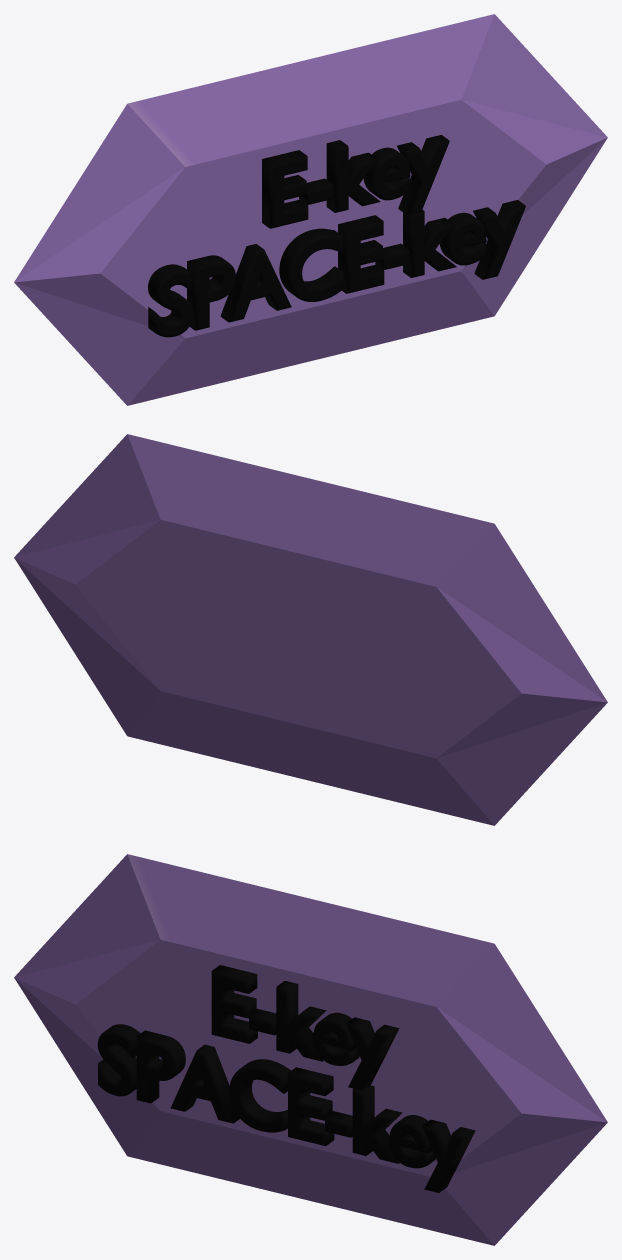
Rendered from Explanation.obj.
3 renders of one model, top to bottom at view 1: azimuth 30°, elevation 25°; view 2: azimuth 150°, elevation 25°; view 3: azimuth 330°, elevation 25°, orthographic.
Parts seen in each view (by area): view 1: 立方体, テキスト; view 2: 立方体; view 3: 立方体, テキスト.
Part boxes in pixels (x1,y1,x2,y2): 立方体: [14, 14, 607, 405]; テキスト: [148, 135, 525, 337]; 立方体: [14, 434, 607, 825]; 立方体: [14, 854, 607, 1245]; テキスト: [97, 965, 475, 1192].
Bounding box in the file's own units: 3.43 × 1.67 × 0.4304.
